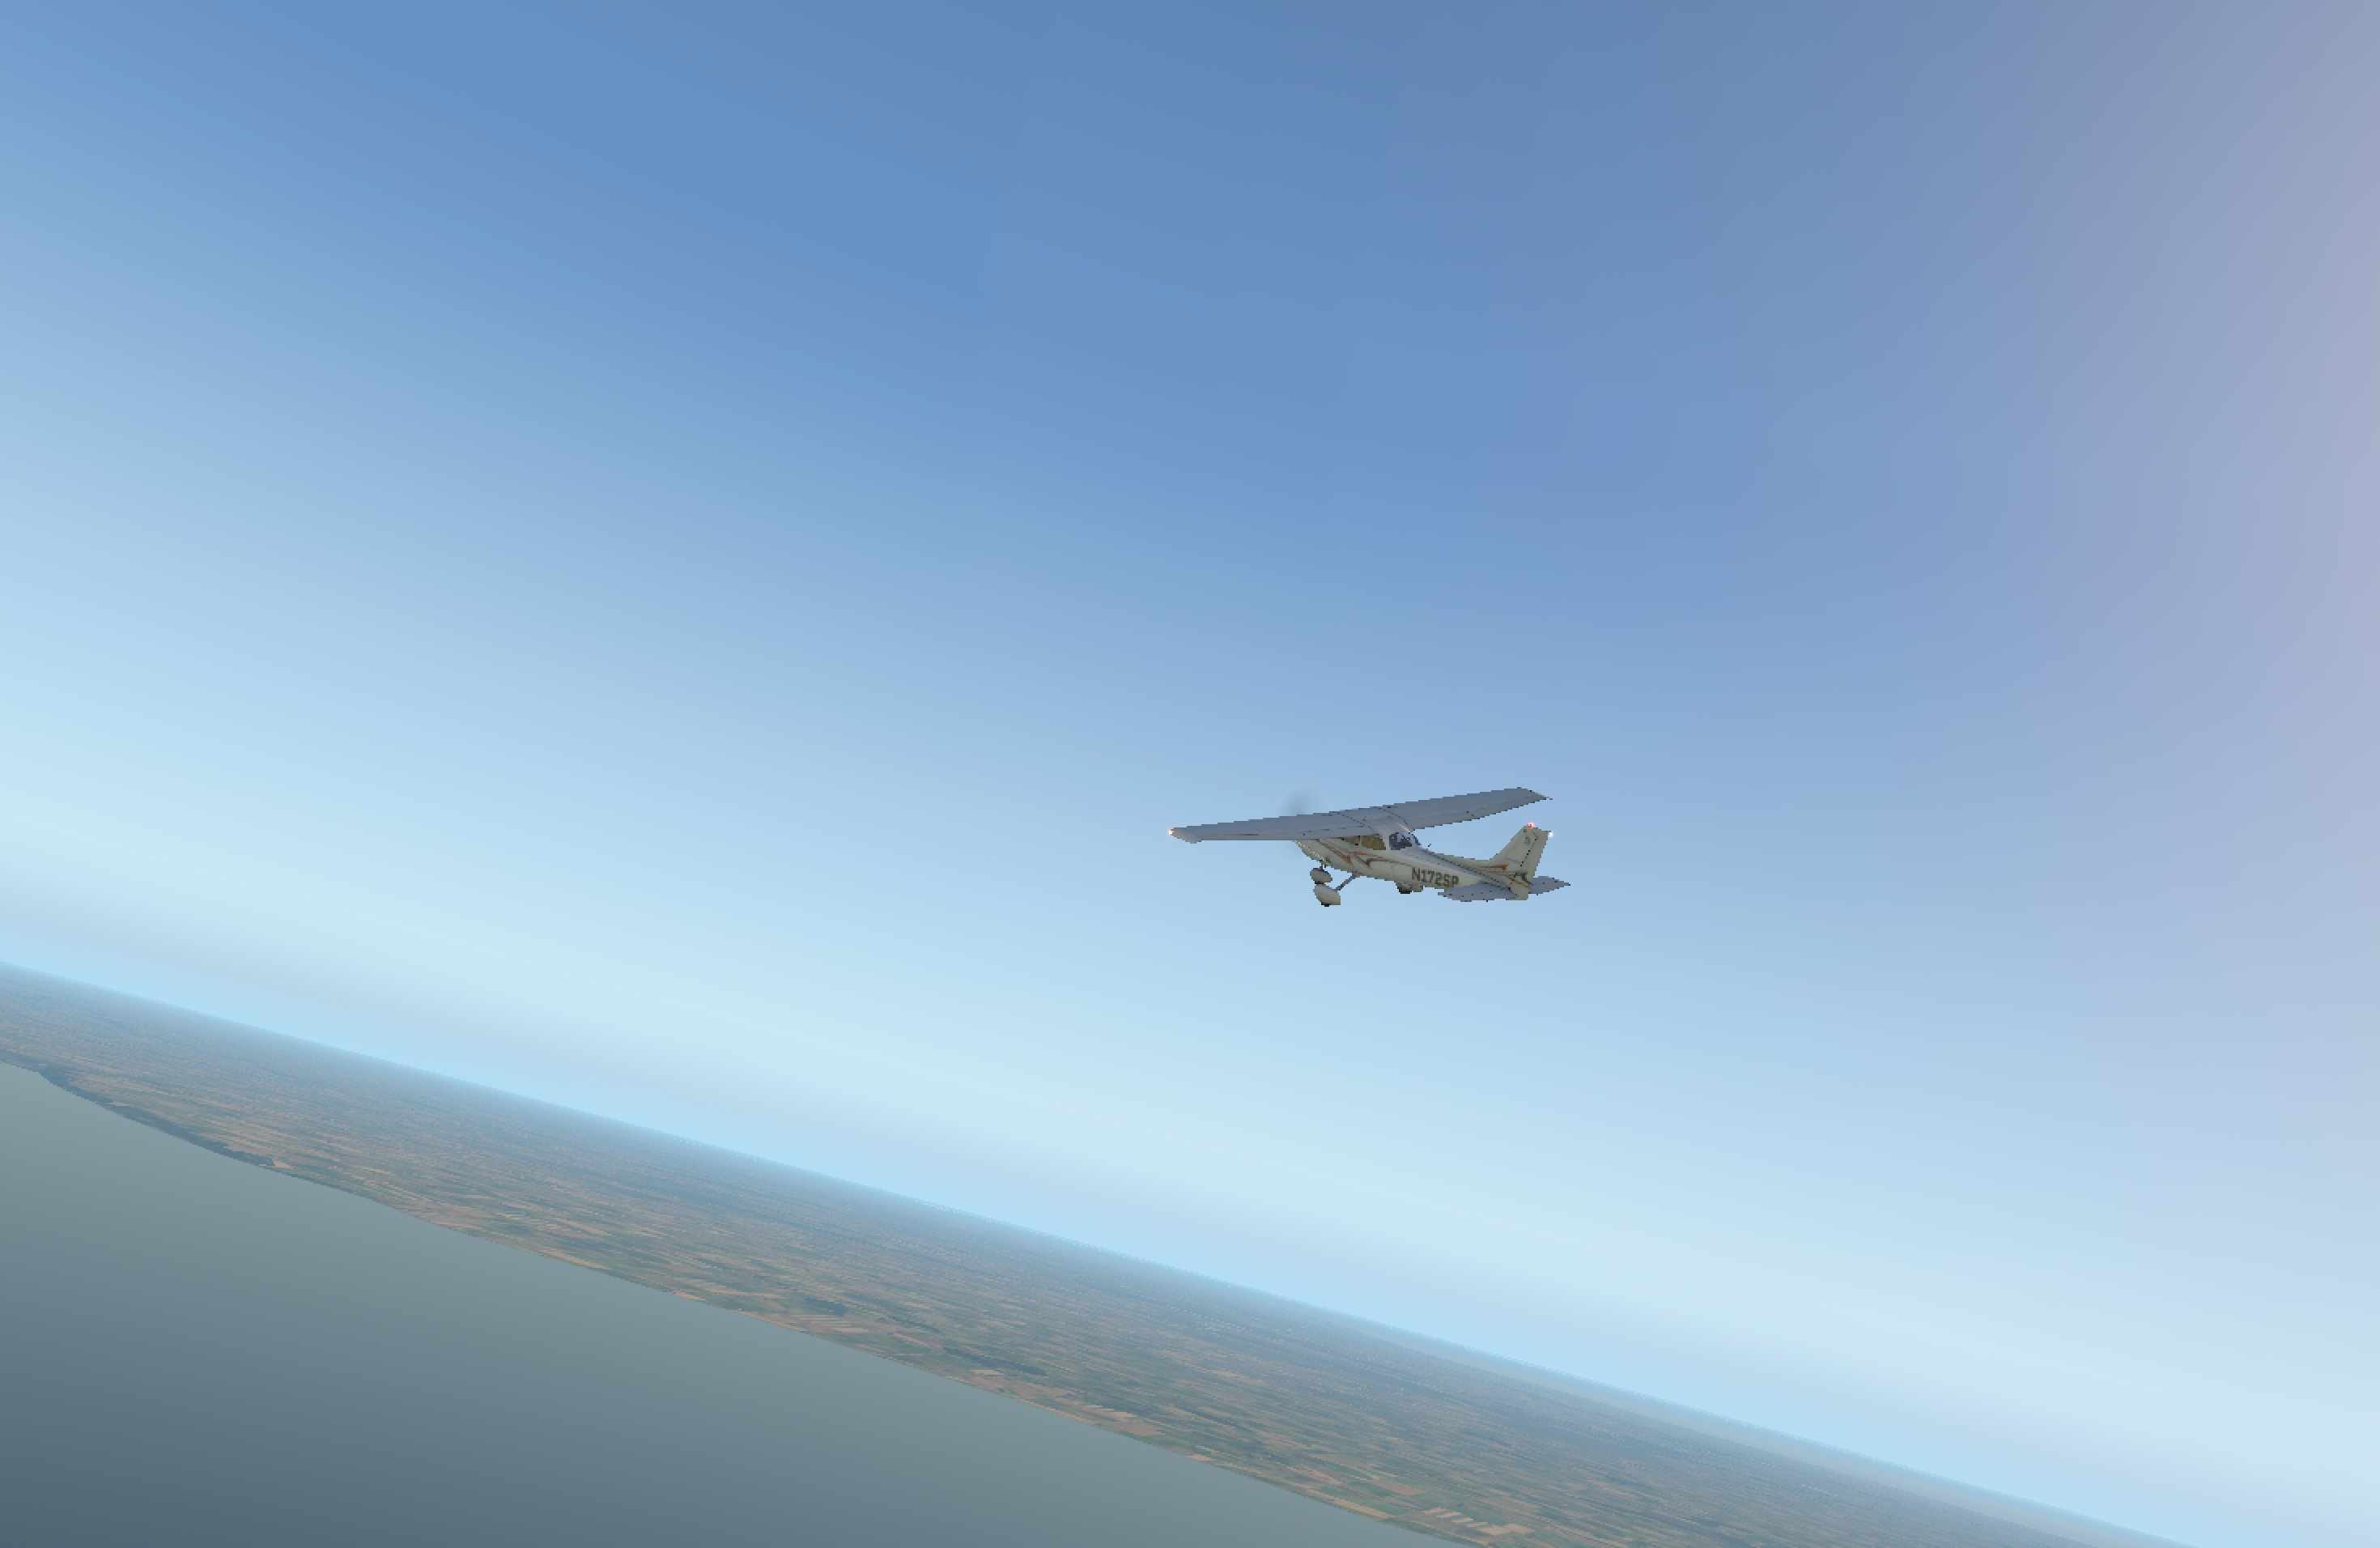aircraft: (1192, 777, 1530, 902)
